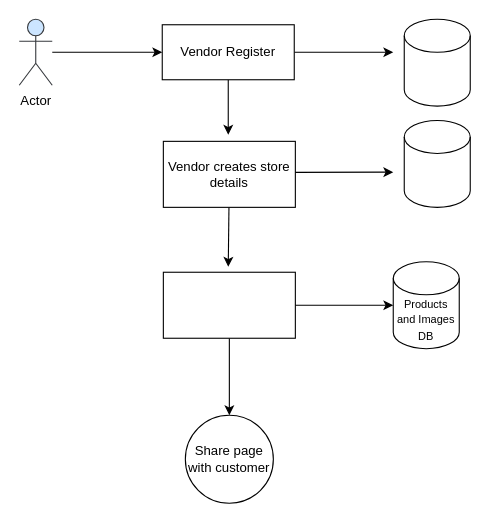
Image size: 490x523. Some labels were removed from this diagram. The centre of each missing label's shape, as x and y in pixels:
Create and Upload Products Details & Images: the point at 228,304
Stores DB: the point at 436,163
Users DB: the point at 436,62
